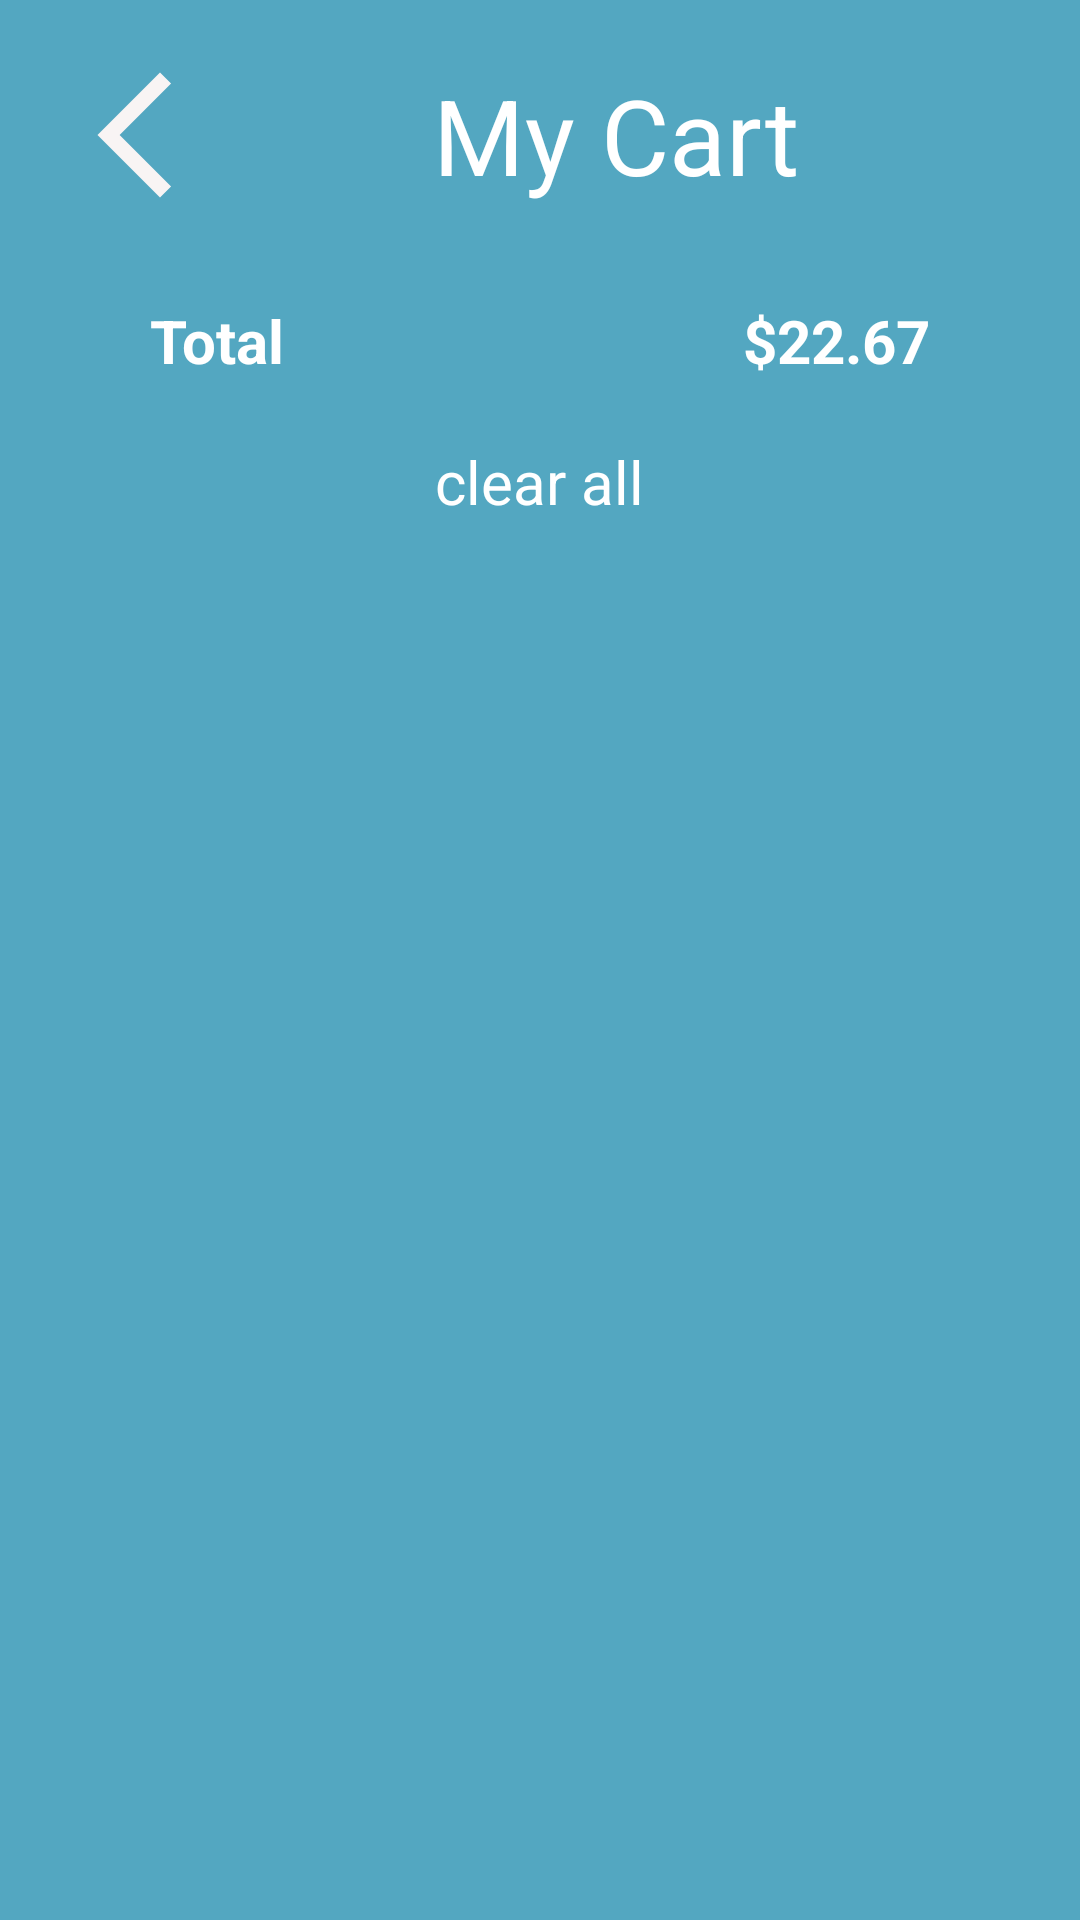

Locate icon controls on the screen. Image size 1080*1920, boxes as (x1, y1, x2, y2).
arrow back: (98, 73, 171, 197)
